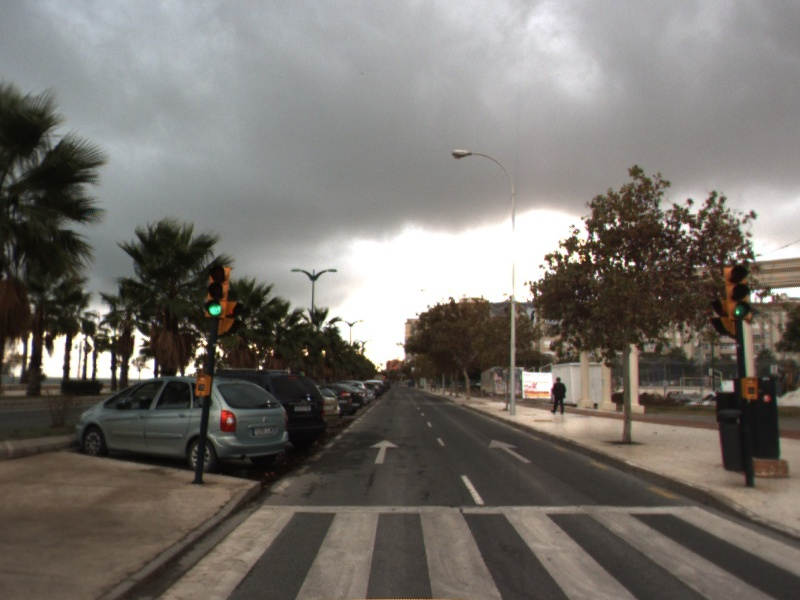STRAIGHT: (487, 438, 534, 465), (367, 438, 401, 465)
